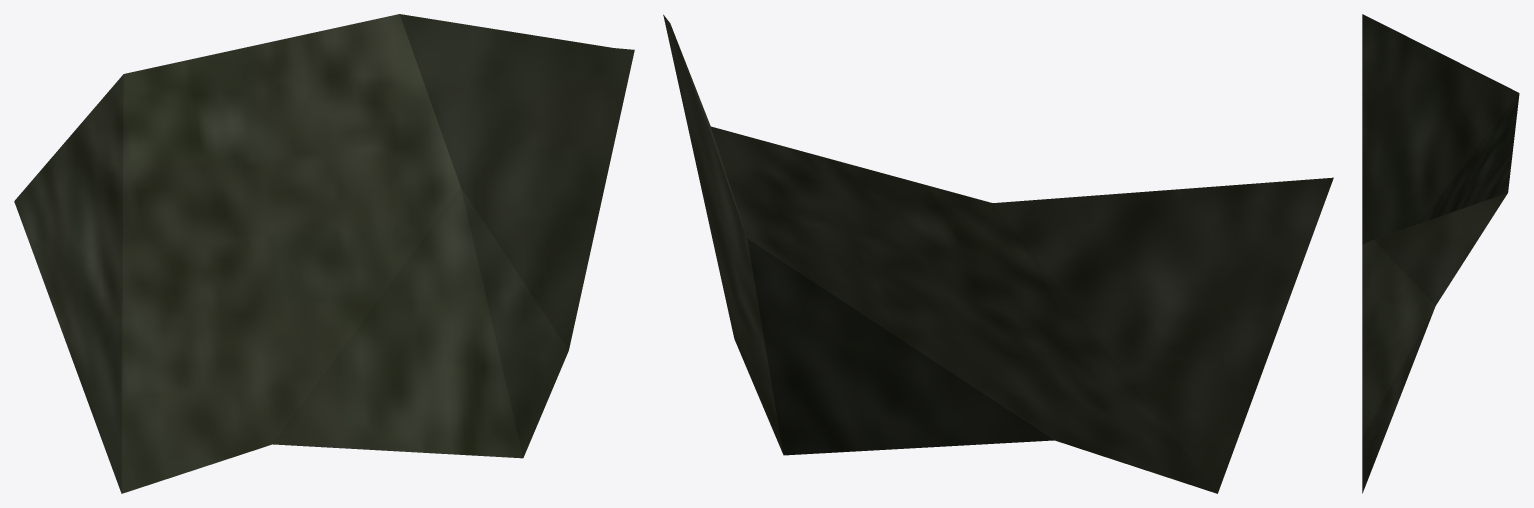
3 renders of one model, left to right at view 1: azimuth 30°, elevation 25°; view 2: azimuth 150°, elevation 25°; view 3: azimuth 270°, elevation 25°, orthographic. The views are drawn at different scales.
Size of the model in its own units: 0.8779 by 0.5154 by 0.2525.
Materials: 1 (1 with a texture image).
